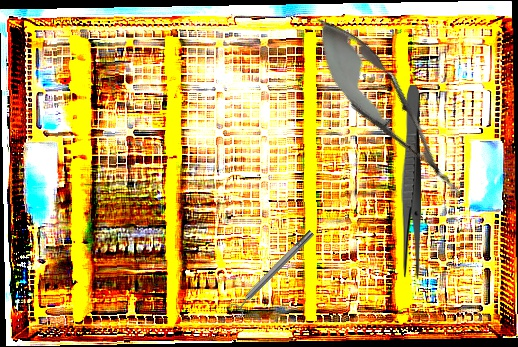Dressing Forceps: (401, 85, 421, 279)
Fixation Ring: (226, 226, 319, 320)
Micro Scissor: (294, 2, 483, 215)
